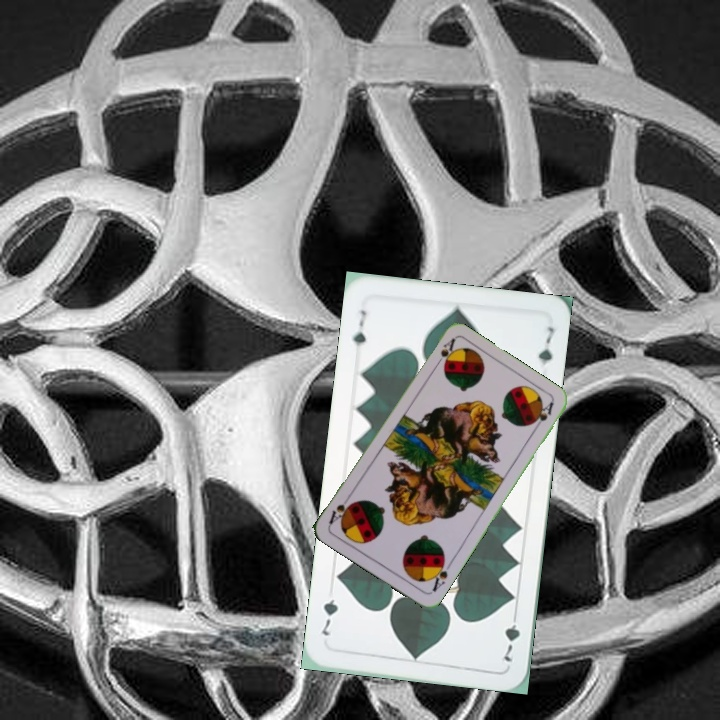G7: (500, 607, 523, 664), (348, 306, 369, 349)
SA: (430, 334, 457, 371), (426, 555, 450, 594)
